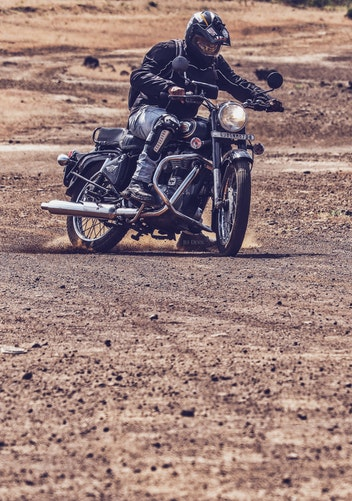helmet: (179, 4, 241, 62)
